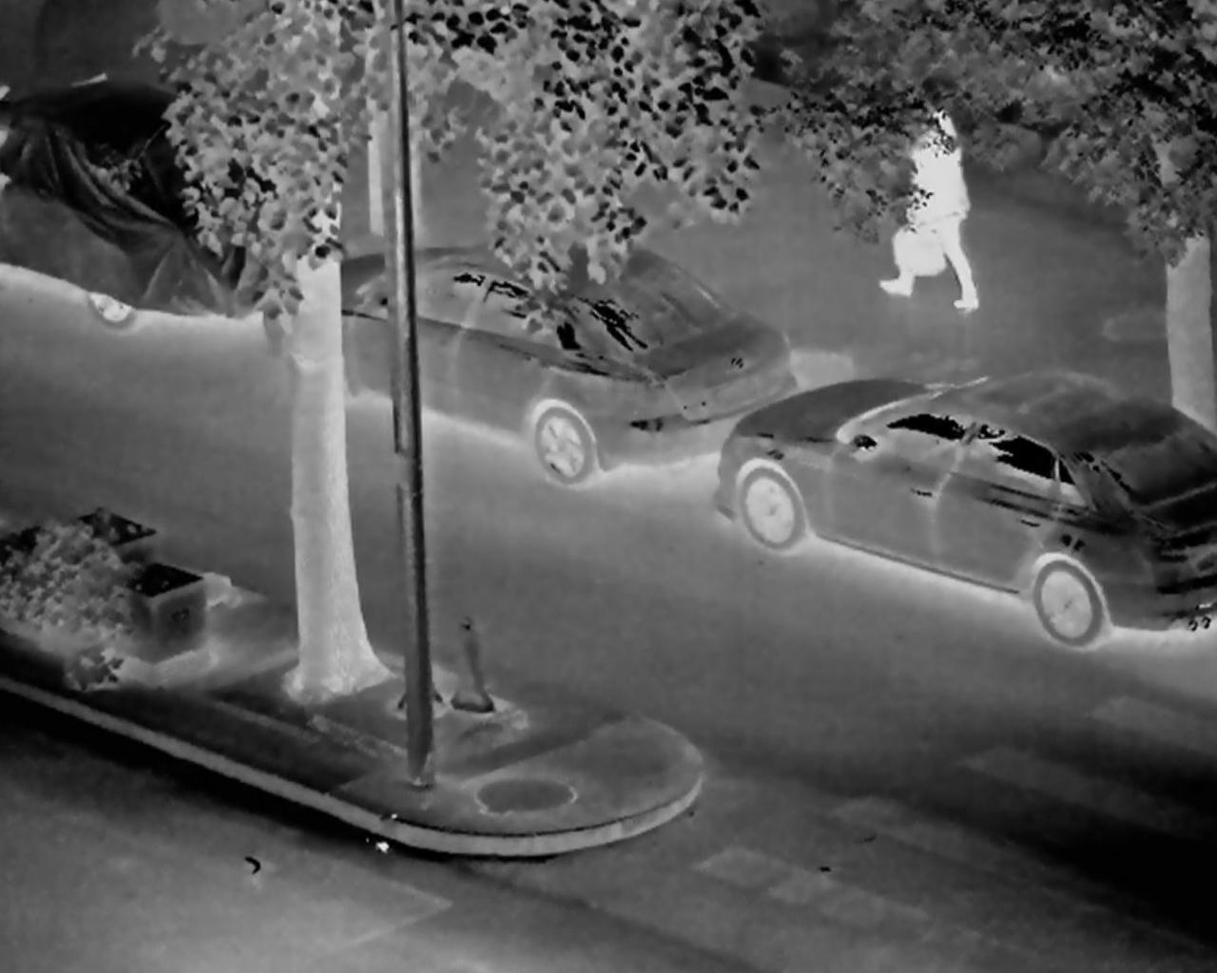person: (860, 97, 988, 313)
